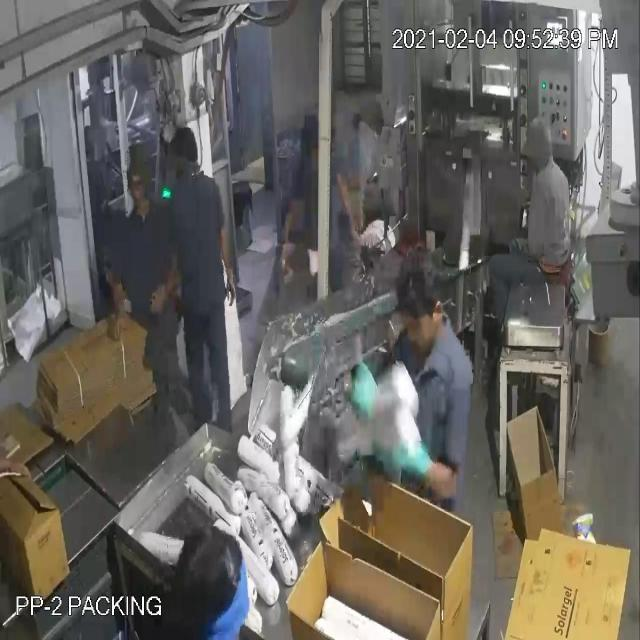No_Gloves: (30, 54, 403, 458)
